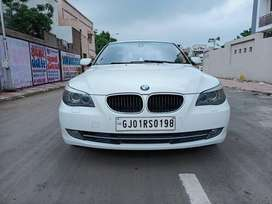GJ01RS0198: (116, 117, 175, 130)
